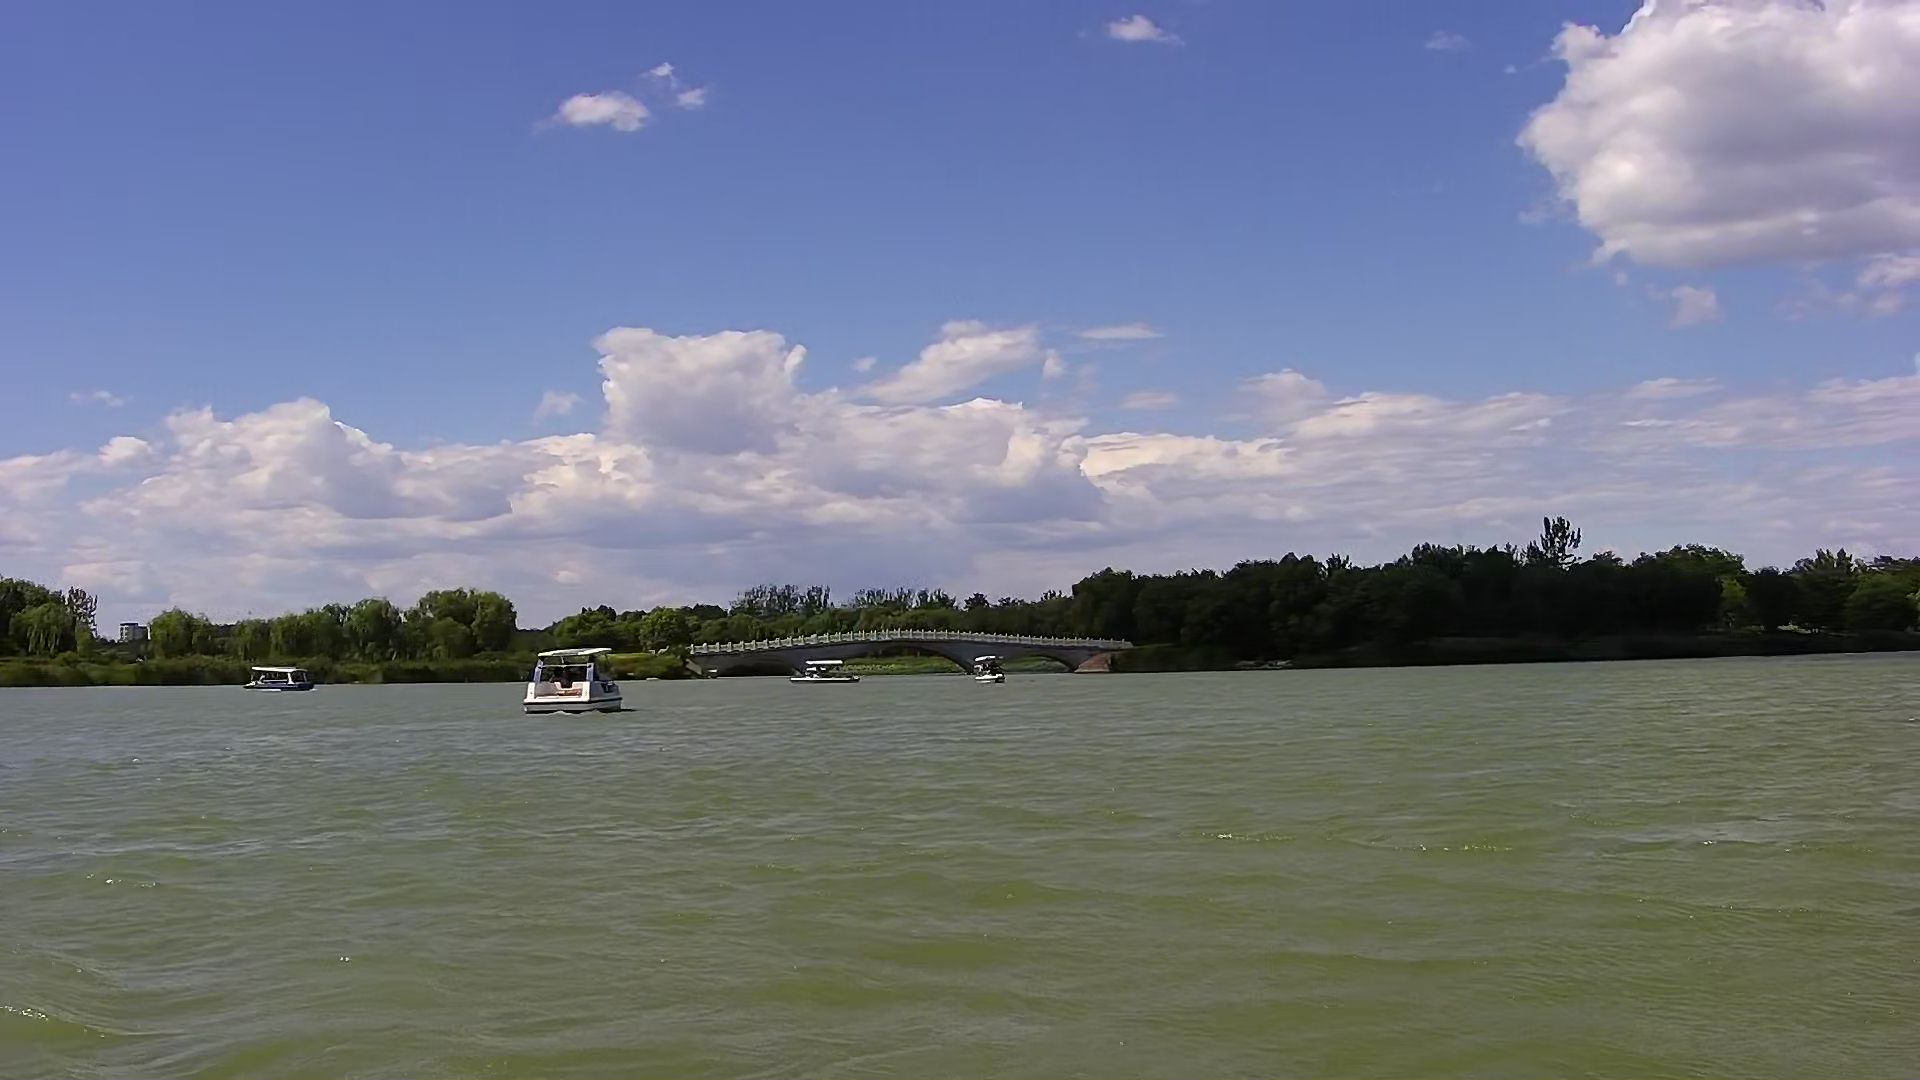boat: (521, 640, 629, 723), (791, 651, 873, 694), (236, 665, 328, 696), (976, 653, 1007, 684)
bridge: (690, 618, 1106, 686)
